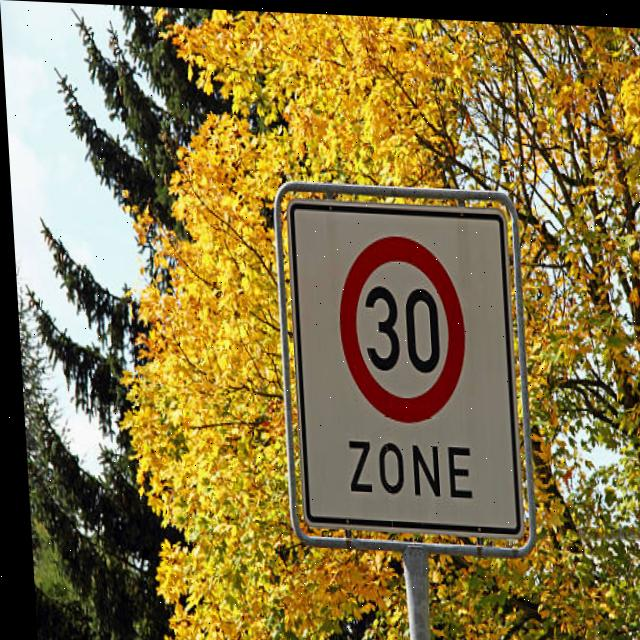Speed limit 30: (330, 227, 468, 423)
